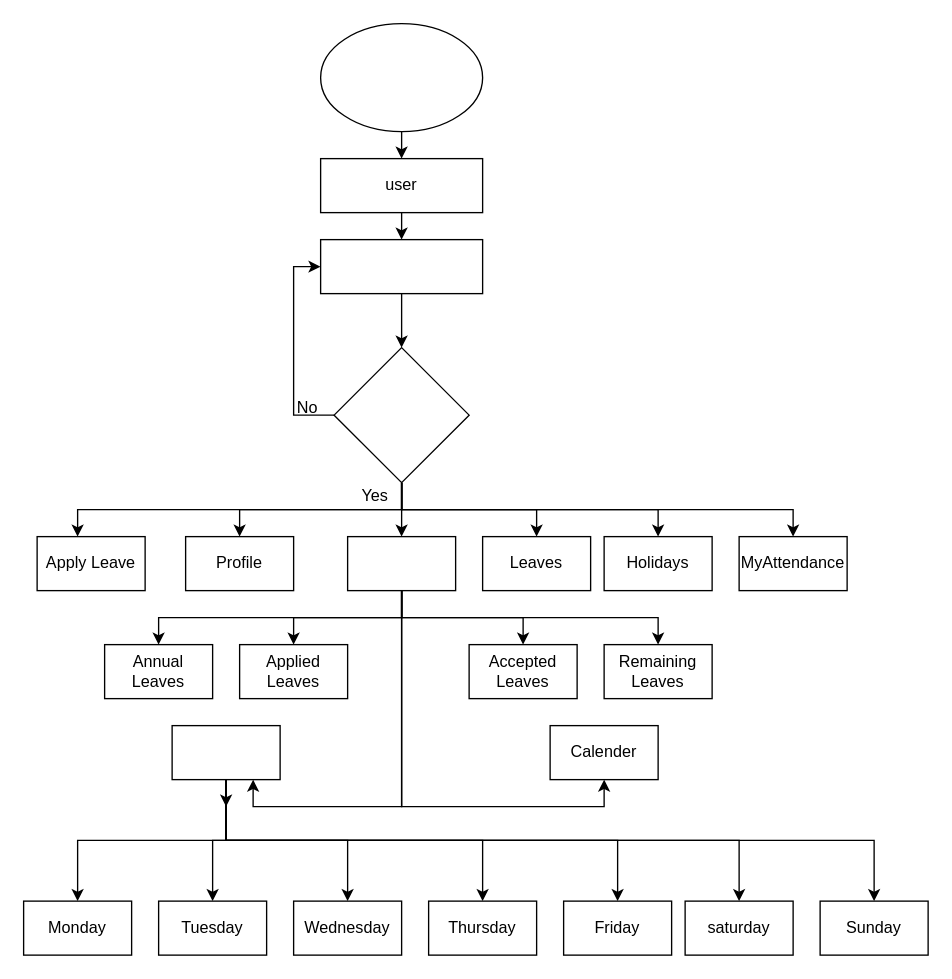
Image size: 952x979. Some labels were removed from this diagram. Each missing label, with the centre of its shape:
Attendance in This week: pixel 225 752
DashBoard: pixel 401 563
Enter Login Deatils: pixel 401 266
Login Successfully: pixel 401 414
Start: pixel 401 77
